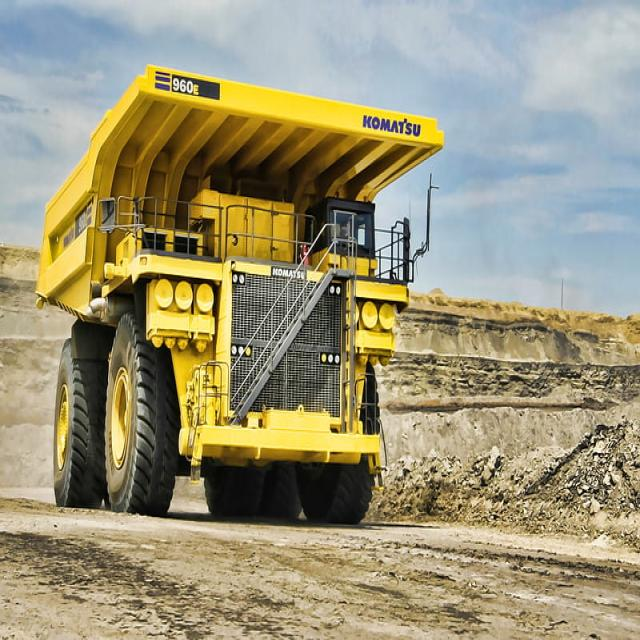dump_truck: (23, 67, 441, 538)
